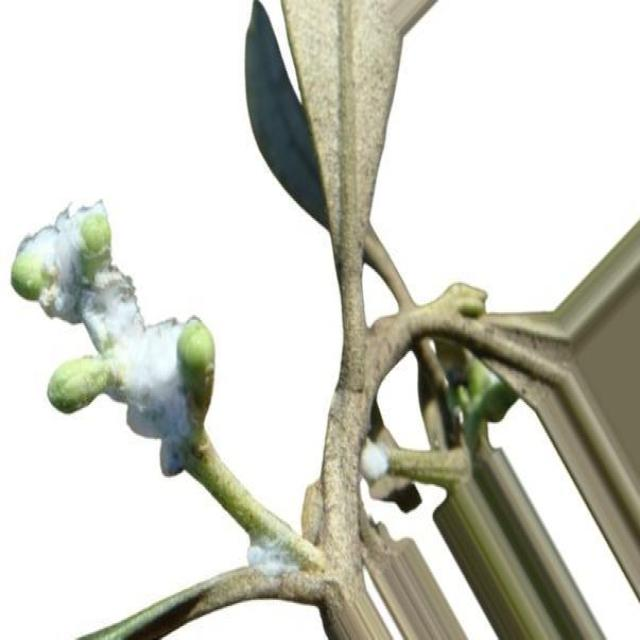Psyllid: (11, 199, 221, 499), (359, 420, 400, 499), (248, 532, 308, 577)
